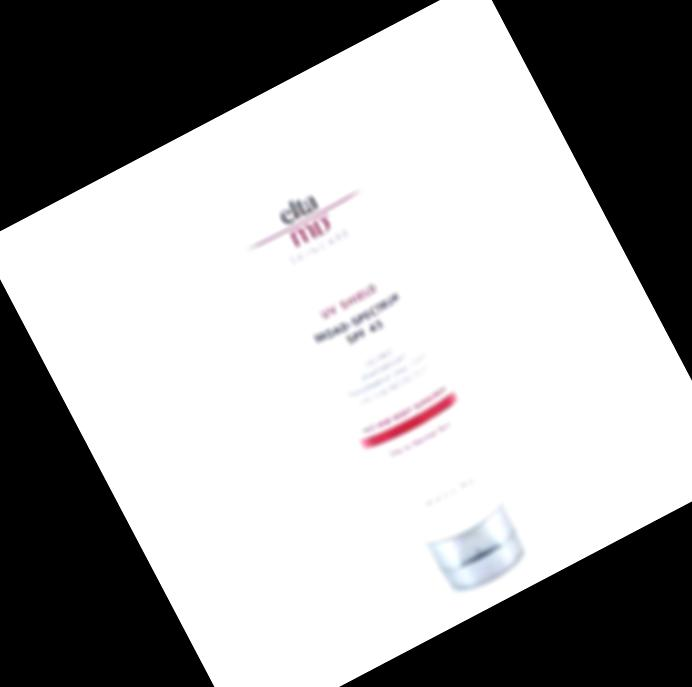cosmetic: (186, 92, 567, 618)
